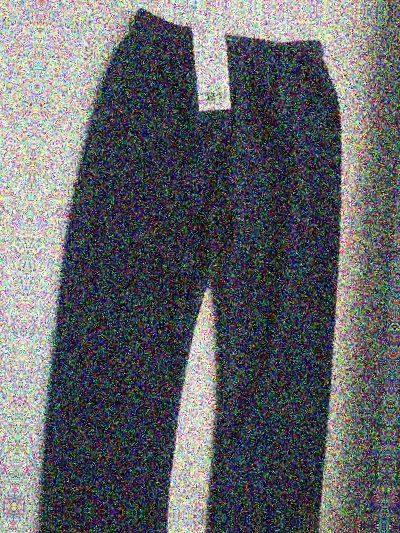Pants: (26, 2, 373, 524), (0, 0, 28, 505), (0, 509, 345, 533), (55, 0, 400, 4), (0, 490, 1, 533), (396, 530, 400, 533)
